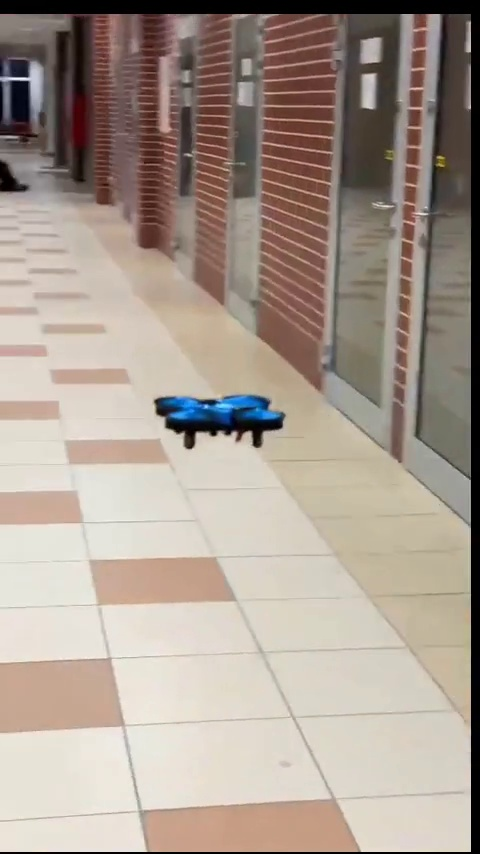drone: (154, 392, 287, 444)
